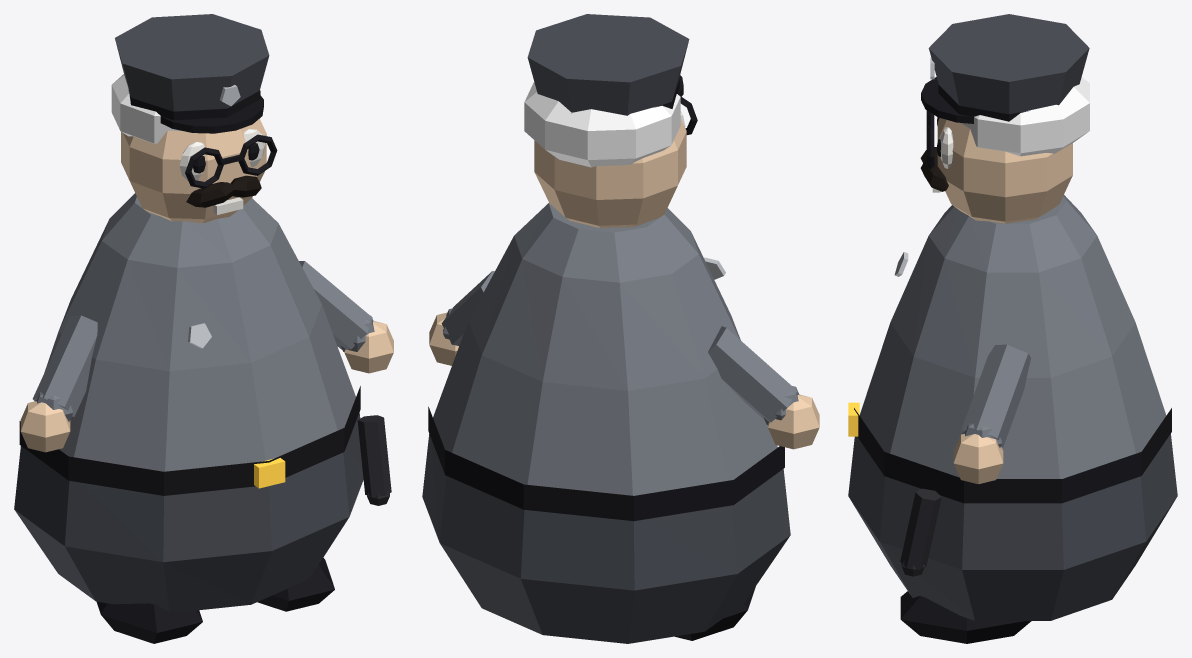
The model's file is npc_guardia_museo.glb.
3 renders of one model, left to right at view 1: azimuth 30°, elevation 25°; view 2: azimuth 150°, elevation 25°; view 3: azimuth 270°, elevation 25°, orthographic. The views are drawn at different scales.
Parts seen in each view (by area): view 1: body_museum_uniform, body_museum_uniform_dark, cap_museum_uniform_dark, head_skin_crema, body_black, arms_museum_uniform, legs_black, arms_skin_crema, cap_black, props_flashlight, hair_hair, glasses_black (+3 smaller); view 2: body_museum_uniform, body_museum_uniform_dark, cap_museum_uniform_dark, body_black, head_skin_crema, hair_hair, arms_museum_uniform, arms_skin_crema, legs_black; view 3: body_museum_uniform, body_museum_uniform_dark, cap_museum_uniform_dark, head_skin_crema, body_black, hair_hair, arms_museum_uniform, legs_black, props_flashlight, arms_skin_crema, cap_black, mustache_mustache_black (+1 smaller).
Part boxes in pixels (x1=…): body_museum_uniform: x1=44, y1=193, x2=355, y2=471; body_museum_uniform_dark: x1=14, y1=412, x2=363, y2=612; cap_museum_uniform_dark: x1=115, y1=14, x2=269, y2=111; head_skin_crema: x1=121, y1=118, x2=266, y2=223; body_black: x1=19, y1=386, x2=360, y2=495; arms_museum_uniform: x1=32, y1=261, x2=374, y2=421; legs_black: x1=96, y1=558, x2=334, y2=643; arms_skin_crema: x1=20, y1=321, x2=393, y2=452; cap_black: x1=128, y1=89, x2=263, y2=133; props_flashlight: x1=357, y1=415, x2=391, y2=505; hair_hair: x1=111, y1=74, x2=260, y2=143; glasses_black: x1=185, y1=134, x2=277, y2=188; body_museum_uniform: x1=433, y1=203, x2=777, y2=495; body_museum_uniform_dark: x1=422, y1=434, x2=790, y2=643; cap_museum_uniform_dark: x1=527, y1=14, x2=689, y2=115; body_black: x1=428, y1=406, x2=784, y2=521; head_skin_crema: x1=534, y1=119, x2=686, y2=228; hair_hair: x1=524, y1=82, x2=680, y2=167; arms_museum_uniform: x1=441, y1=271, x2=799, y2=424; arms_skin_crema: x1=429, y1=312, x2=819, y2=449; legs_black: x1=675, y1=586, x2=755, y2=640; body_museum_uniform: x1=859, y1=195, x2=1166, y2=478; body_museum_uniform_dark: x1=848, y1=434, x2=1177, y2=620; cap_museum_uniform_dark: x1=928, y1=14, x2=1089, y2=114; head_skin_crema: x1=937, y1=118, x2=1072, y2=223; body_black: x1=854, y1=408, x2=1171, y2=503; hair_hair: x1=961, y1=77, x2=1089, y2=156; arms_museum_uniform: x1=961, y1=344, x2=1030, y2=447; legs_black: x1=900, y1=591, x2=1031, y2=643; props_flashlight: x1=900, y1=488, x2=941, y2=576; arms_skin_crema: x1=953, y1=433, x2=1003, y2=484; cap_black: x1=921, y1=77, x2=1029, y2=123; mustache_mustache_black: x1=920, y1=158, x2=948, y2=191.
Size of the model in its own units: 1.13 by 1.6 by 0.86.
